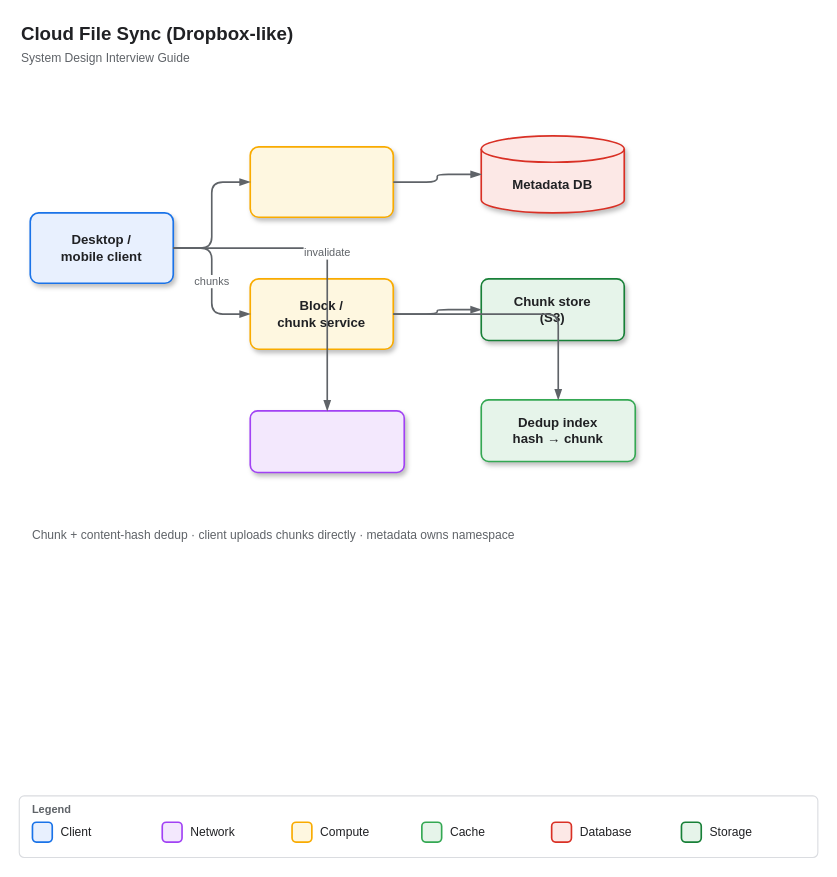
This 837x877 diagram has some shape labels left out. Each missing label, with the centre of its shape:
Metadata service: the point at 322,183
Sync notify (long poll / WS): the point at 328,442
